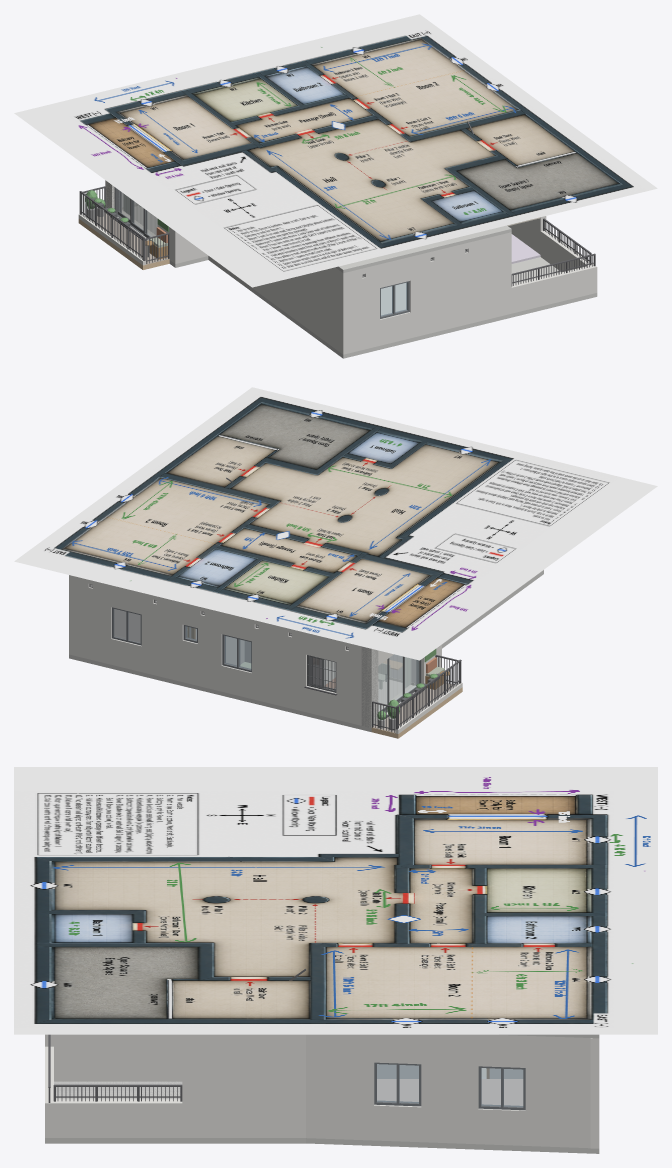
Rendered from MyFlat_V1_2_Room2_Ensuite.glb.
3 renders of one model, top to bottom at view 1: azimuth 30°, elevation 25°; view 2: azimuth 150°, elevation 25°; view 3: azimuth 270°, elevation 25°, orthographic. The views are drawn at different scales.
Visible parts, largest first — view 1: PLAN_REFERENCE_OVERLAY, WALL_EXT_S_HALL, WALL_EXT_W_HALL, SLAB_FLOOR_STRUCTURAL, PARAPET_OPENSQ_S, BALCONY_RAILING_W, SLAB_ROOF, PARAPET_OPENSQ_E, R1_DEF_BALCONY_FLOOR_FINISH, RAILING_OPENSQ_S, WALL_EXT_E_STAIR, WINDOW_W7_GLASS (+4 smaller); view 2: PLAN_REFERENCE_OVERLAY, WALL_EXT_N_R2, WALL_EXT_N_R1, WALL_EXT_N_KIT, WALL_EXT_N_B2, SLAB_FLOOR_STRUCTURAL, BALCONY_RAILING_W, PILLAR_R1_NW, R1_DEF_BALCONY_CURTAIN_SHEER, WALL_EXT_W_R1_BALCONY, WINDOW_W4_GLASS, R1_DEF_BALCONY_FLOOR_FINISH (+3 smaller); view 3: PLAN_REFERENCE_OVERLAY, WALL_EXT_E_R2_TAPERED, WALL_EXT_E_STAIR, WALL_INT_OPENSQ_W, PARAPET_OPENSQ_E, SLAB_FLOOR_STRUCTURAL, FLOOR_R2, WINDOW_W5_GLASS, FLOOR_OPENSQ, WINDOW_W6_GLASS, RAILING_OPENSQ_E, WALL_EXT_N_R2 (+4 smaller).
Boxes of the visible parts, x1=… form: PLAN_REFERENCE_OVERLAY: x1=14, y1=14, x2=657, y2=287; WALL_EXT_S_HALL: x1=340, y1=232, x2=511, y2=354; WALL_EXT_W_HALL: x1=209, y1=256, x2=348, y2=354; SLAB_FLOOR_STRUCTURAL: x1=169, y1=256, x2=597, y2=358; PARAPET_OPENSQ_S: x1=511, y1=264, x2=597, y2=313; BALCONY_RAILING_W: x1=79, y1=191, x2=144, y2=260; SLAB_ROOF: x1=335, y1=225, x2=511, y2=273; PARAPET_OPENSQ_E: x1=540, y1=230, x2=593, y2=272; R1_DEF_BALCONY_FLOOR_FINISH: x1=93, y1=212, x2=168, y2=264; RAILING_OPENSQ_S: x1=511, y1=253, x2=595, y2=286; WALL_EXT_E_STAIR: x1=508, y1=216, x2=546, y2=254; WINDOW_W7_GLASS: x1=381, y1=282, x2=407, y2=316; PLAN_REFERENCE_OVERLAY: x1=14, y1=387, x2=657, y2=660; WALL_EXT_N_R2: x1=69, y1=575, x2=171, y2=679; WALL_EXT_N_R1: x1=265, y1=623, x2=372, y2=727; WALL_EXT_N_KIT: x1=208, y1=609, x2=264, y2=701; WALL_EXT_N_B2: x1=172, y1=600, x2=208, y2=688; SLAB_FLOOR_STRUCTURAL: x1=69, y1=570, x2=543, y2=731; BALCONY_RAILING_W: x1=396, y1=659, x2=461, y2=729; PILLAR_R1_NW: x1=361, y1=646, x2=378, y2=727; R1_DEF_BALCONY_CURTAIN_SHEER: x1=378, y1=654, x2=411, y2=708; WALL_EXT_W_R1_BALCONY: x1=362, y1=647, x2=438, y2=727; WINDOW_W4_GLASS: x1=114, y1=609, x2=140, y2=642; R1_DEF_BALCONY_FLOOR_FINISH: x1=373, y1=683, x2=454, y2=732; PLAN_REFERENCE_OVERLAY: x1=14, y1=767, x2=657, y2=1034; WALL_EXT_E_R2_TAPERED: x1=306, y1=1034, x2=590, y2=1148; WALL_EXT_E_STAIR: x1=182, y1=1034, x2=305, y2=1137; WALL_INT_OPENSQ_W: x1=54, y1=1034, x2=182, y2=1081; PARAPET_OPENSQ_E: x1=54, y1=1099, x2=182, y2=1137; SLAB_FLOOR_STRUCTURAL: x1=45, y1=1081, x2=599, y2=1153; FLOOR_R2: x1=377, y1=1079, x2=523, y2=1105; WINDOW_W5_GLASS: x1=481, y1=1068, x2=523, y2=1106; FLOOR_OPENSQ: x1=54, y1=1081, x2=182, y2=1099; WINDOW_W6_GLASS: x1=377, y1=1064, x2=418, y2=1103; RAILING_OPENSQ_E: x1=53, y1=1084, x2=182, y2=1101; WALL_EXT_N_R2: x1=590, y1=1038, x2=599, y2=1148.
Size of what is drawn, in the model's own units: 16.28 by 4.33 by 16.55.
Materials: 70 (1 with a texture image).
